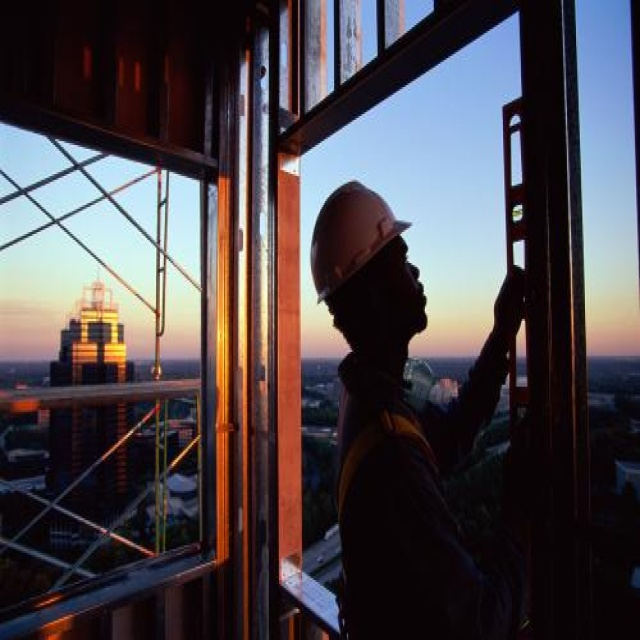Helmet: (303, 157, 453, 377)
